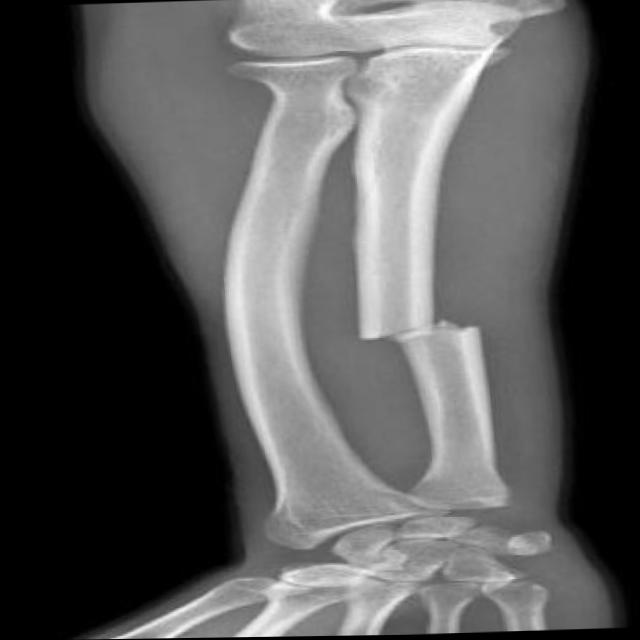fracture: (336, 314, 494, 347)
